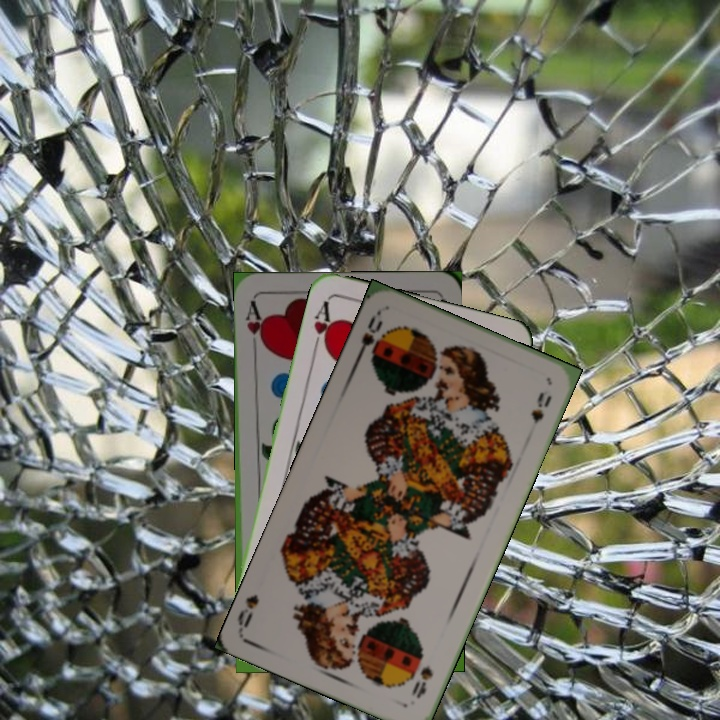HA: (308, 296, 337, 355), (242, 297, 268, 356)
SO: (351, 309, 386, 365), (407, 661, 436, 701)
